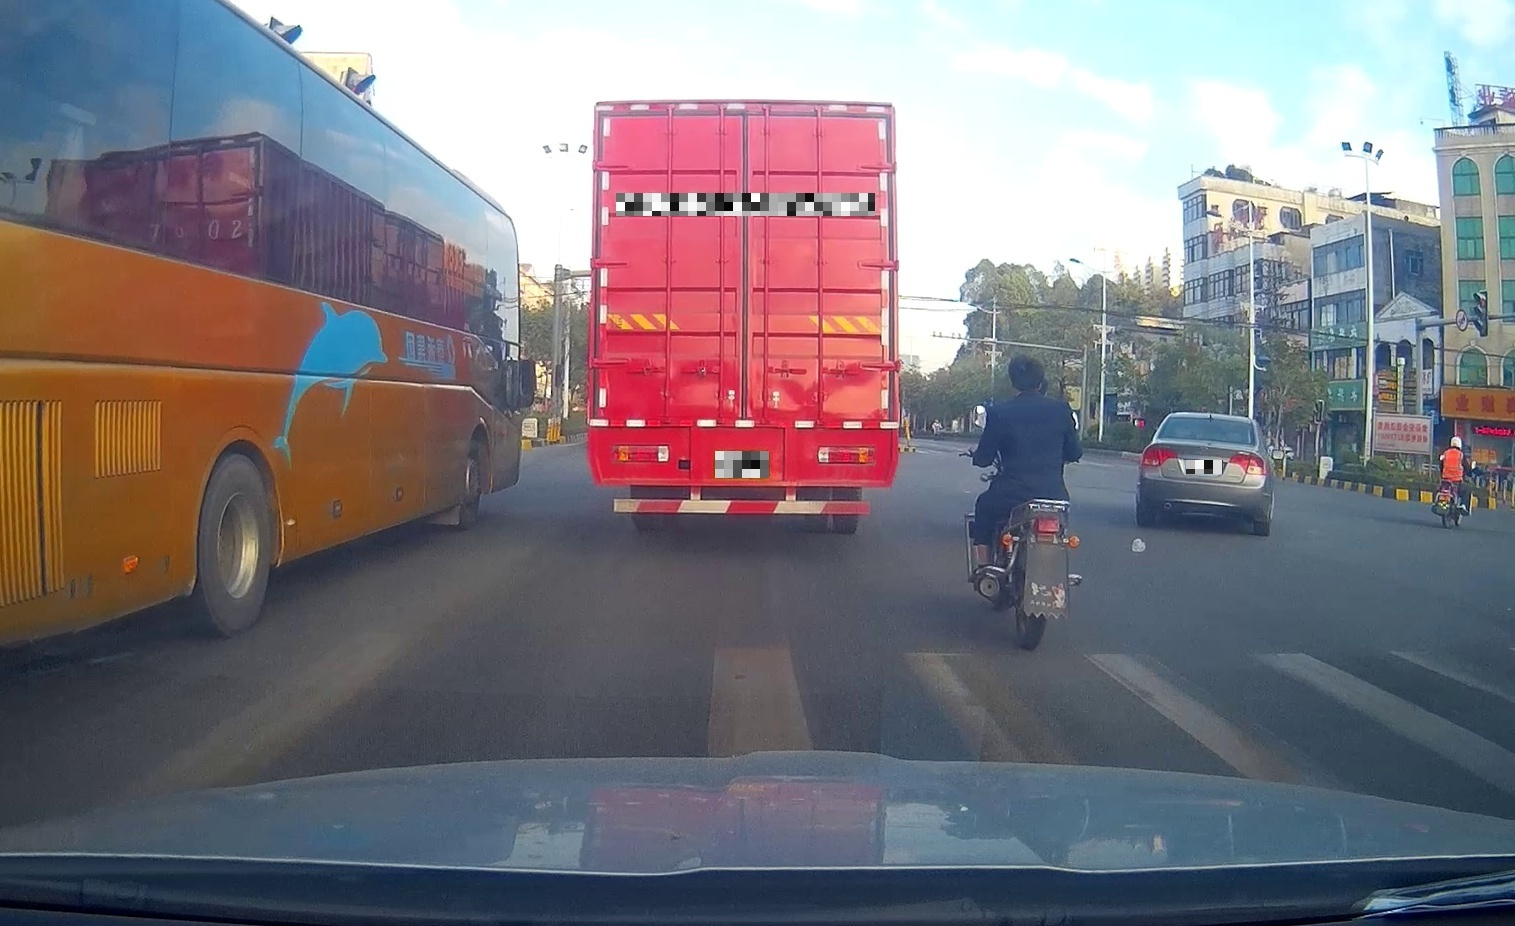L_light: (612, 444, 669, 462), (1141, 446, 1178, 467)
R_light: (818, 446, 875, 464), (1228, 453, 1265, 475)
T_light: (725, 116, 765, 128), (1202, 418, 1220, 424)
day-no: (584, 100, 901, 533)
day-right: (1136, 412, 1270, 535)
plate_1: (616, 193, 875, 216)
plate_2: (715, 451, 769, 478)
plate_3: (1186, 460, 1223, 474)
